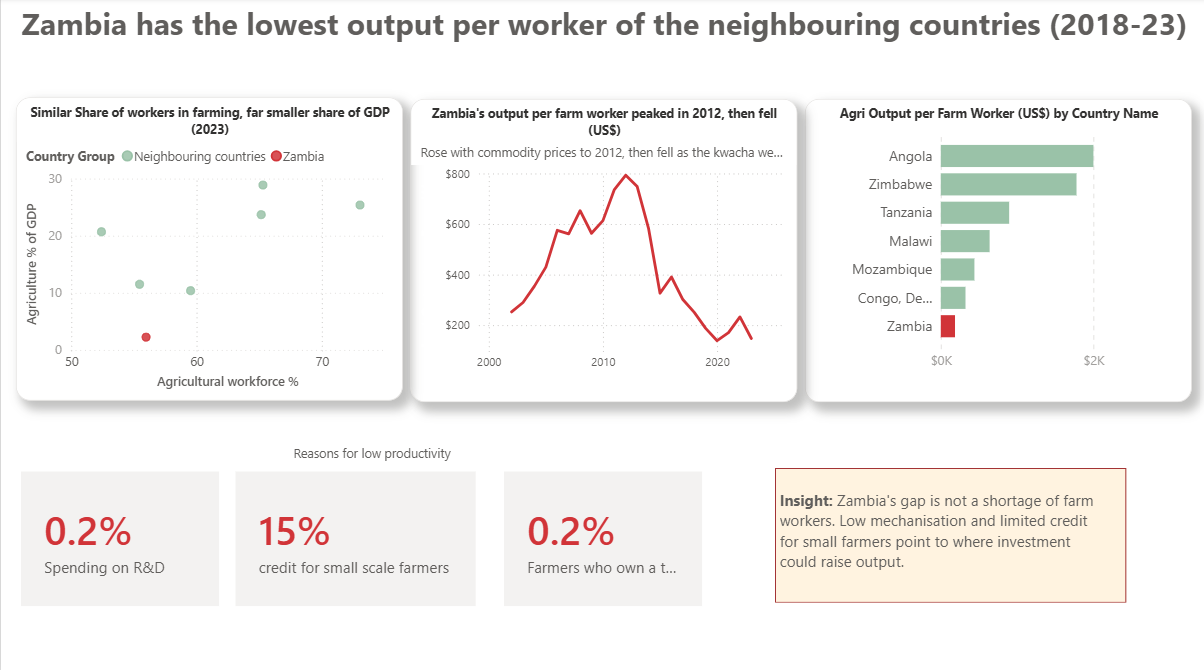

Layout of this report page (visuals, bound fields, positions):
{"tool":"powerbi","page":{"name":"Labour Force Efficiency","canvas":[1280,720],"ordinal":2},"visuals":[{"type":"textbox","box":[0,0,1280,68.9],"z":1000},{"type":"scatterChart","title":"Similar Share of workers in farming, far smaller share of GDP (2023)","fields":{"Series":["Data.Country Group"],"X":["Data.Agricultural workforce %"],"Y":["Data.Agriculture % of GDP"]},"box":[16.5,106,410,321],"z":2000},{"type":"cardVisual","fields":{"Data":["Data.Spending on R&D"]},"box":[16.5,498,220,153.7],"z":3000},{"type":"cardVisual","fields":{"Data":["Data.Portion of credit allocated to small scale farmers"]},"box":[243.2,498,265.5,153.7],"z":4000},{"type":"cardVisual","fields":{"Data":["Data.Highly mechanized farmers"]},"box":[528.1,498,220,153],"z":5000},{"type":"shape","box":[820.9,499,372.5,143],"z":6000},{"type":"textbox","box":[820.9,499,345.3,153.7],"z":7000},{"type":"textbox","box":[23.3,468.8,739.2,29.2],"z":8000},{"type":"clusteredBarChart","fields":{"Category":["Data.Country Name"],"Y":["Data.Agri Output per Farm Worker (US$)"]},"box":[853.3,108.3,410,321],"z":9000},{"type":"lineChart","title":"Zambia''s output per farm worker peaked in 2012, then fell (US$)","fields":{"Category":["Data.Year"],"Y":["Data.Agri Output per Farm Worker (US$)"]},"box":[435,108.3,410,321],"z":10000}]}

Visuals, with their boxes in screenshot pixels (x1, y1, x2, y2), scaled from the page's 1280x720 canvas onto the 1204x670 screenshot:
textbox: 0,0,1203,64
"Similar Share of workers in farming, far smaller share of GDP (2023)" scatterChart: 16,99,401,397
cardVisual - Data.Spending on R&D: 16,463,222,606
cardVisual - Data.Portion of credit allocated to small scale farmers: 229,463,478,606
cardVisual - Data.Highly mechanized farmers: 497,463,704,606
shape: 772,464,1123,597
textbox: 772,464,1097,607
textbox: 22,436,717,463
clusteredBarChart - Data.Country Name x Data.Agri Output per Farm Worker (US$): 803,101,1188,399
"Zambia''s output per farm worker peaked in 2012, then fell (US$)" lineChart: 409,101,795,399
